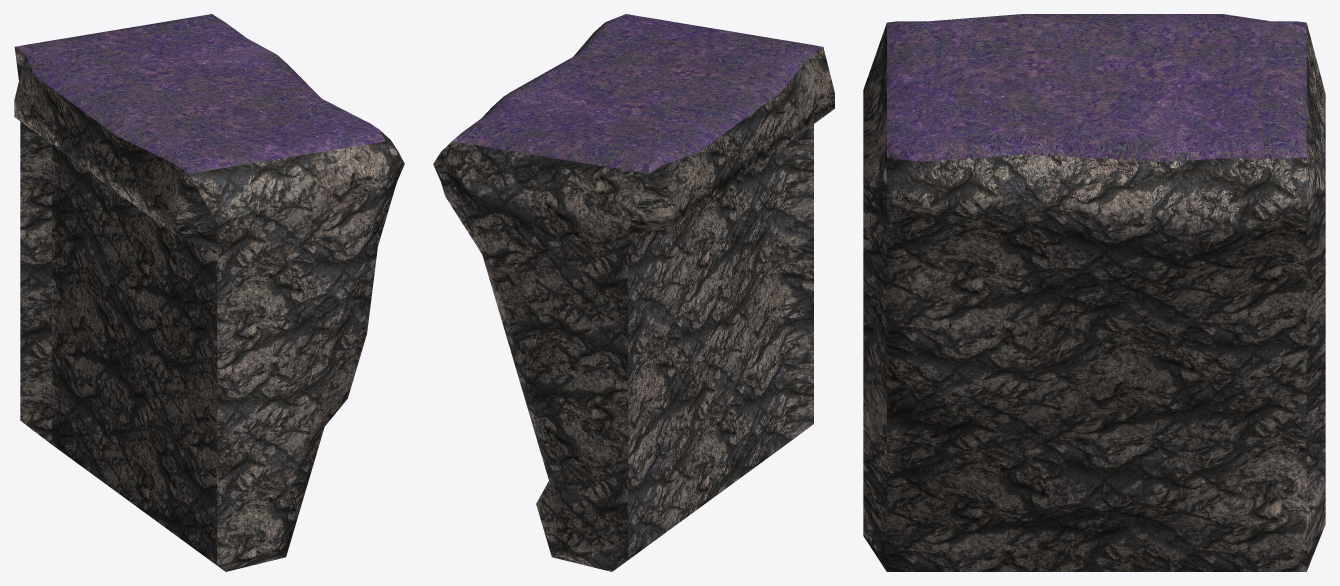
File: AlienCliffRock1.fbx
3 renders of one model, left to right at view 1: azimuth 30°, elevation 25°; view 2: azimuth 150°, elevation 25°; view 3: azimuth 270°, elevation 25°, orthographic. The views are drawn at different scales.
Visible parts, largest first — view 1: pCube1; view 2: pCube1; view 3: pCube1.
Part boxes in pixels (x1,y1,x2,y2): pCube1: (14,14,404,571); pCube1: (433,14,834,571); pCube1: (863,14,1325,571).
Bounding box in the file's own units: 8.09 × 13.08 × 11.
Materials: 2 (2 with a texture image).
